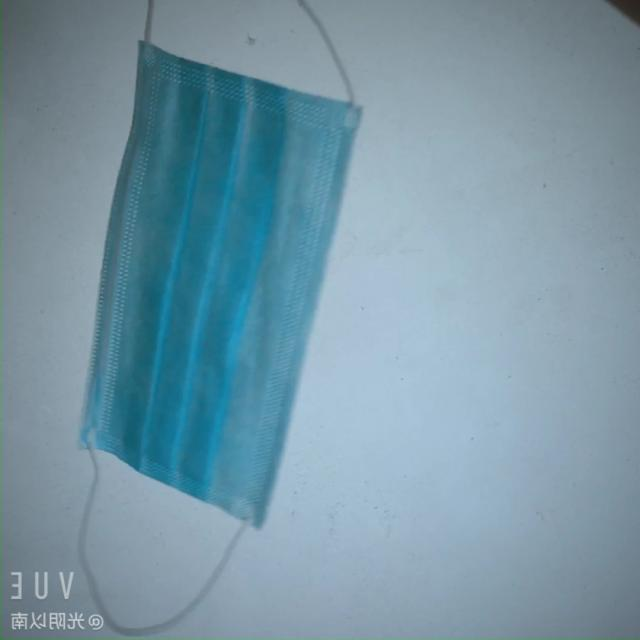face mask: (82, 34, 339, 526)
